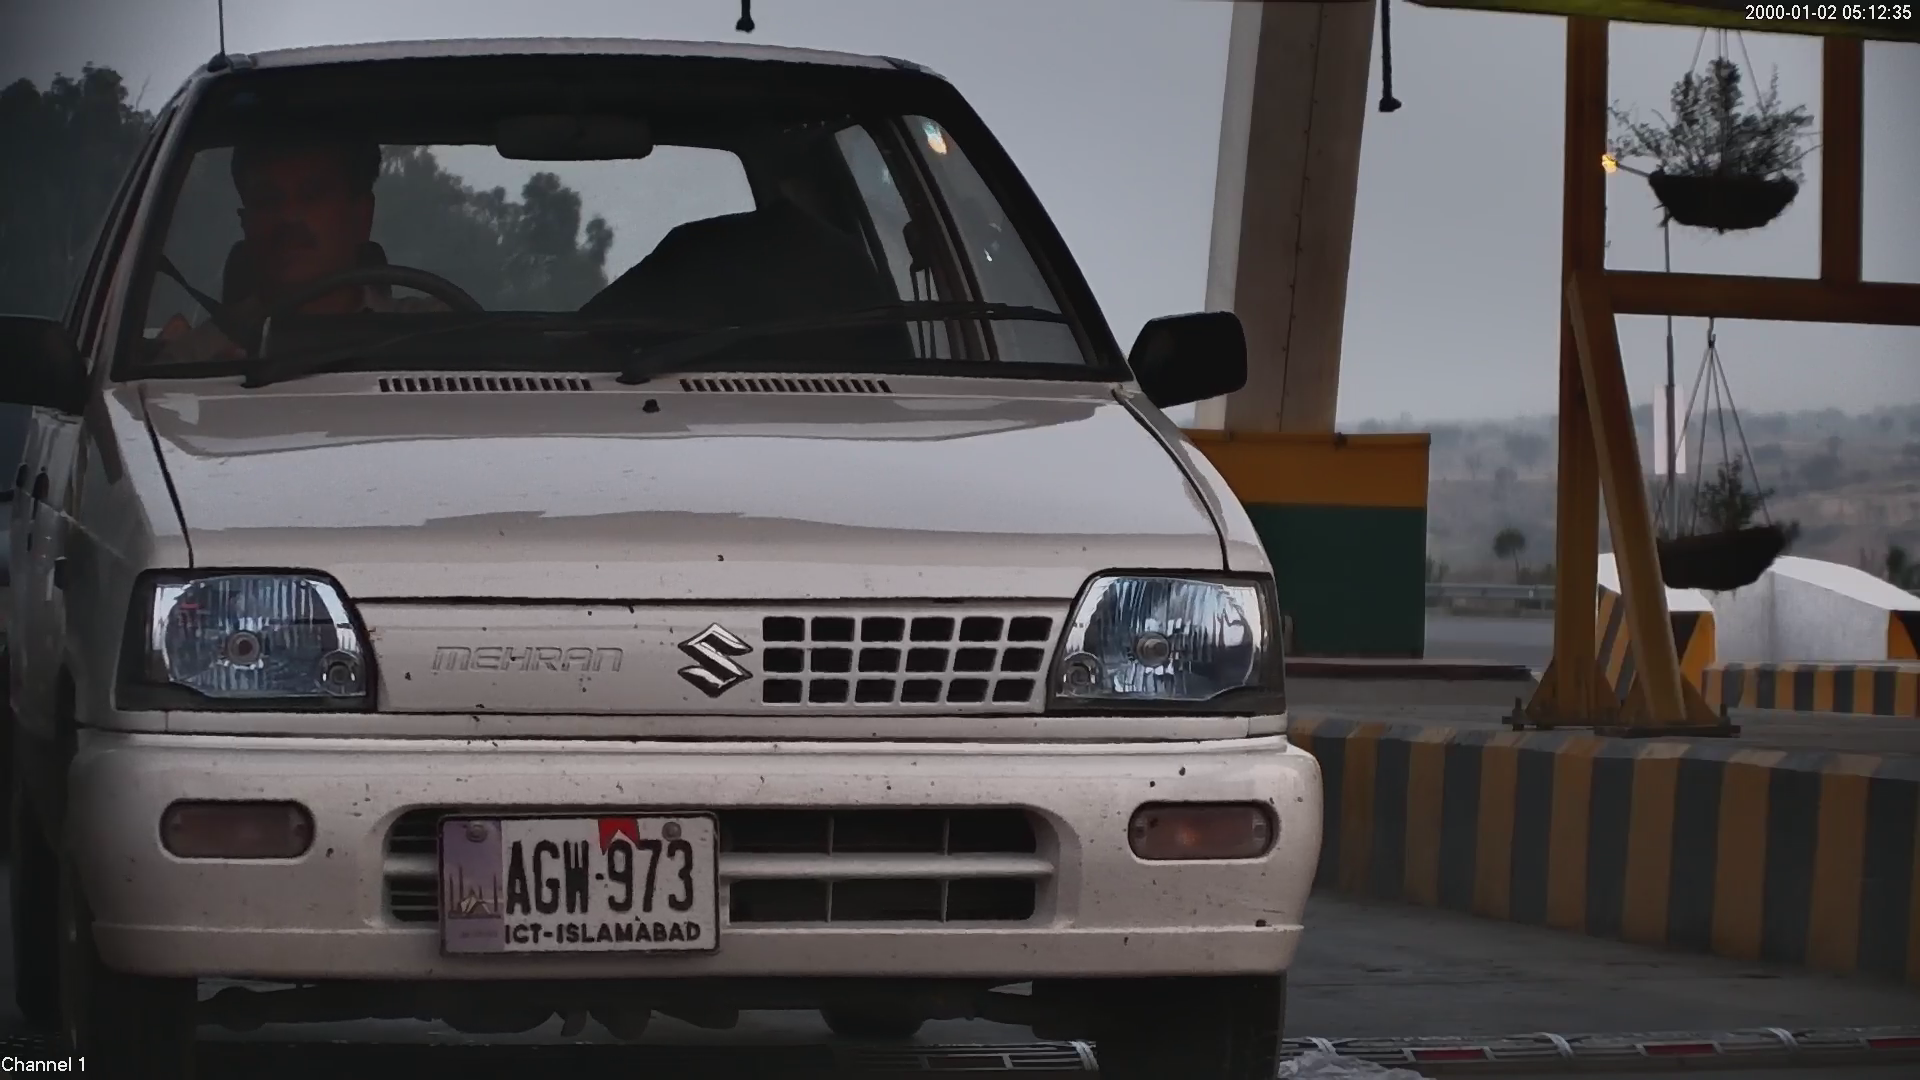Number_Plate: (424, 795, 733, 962)
